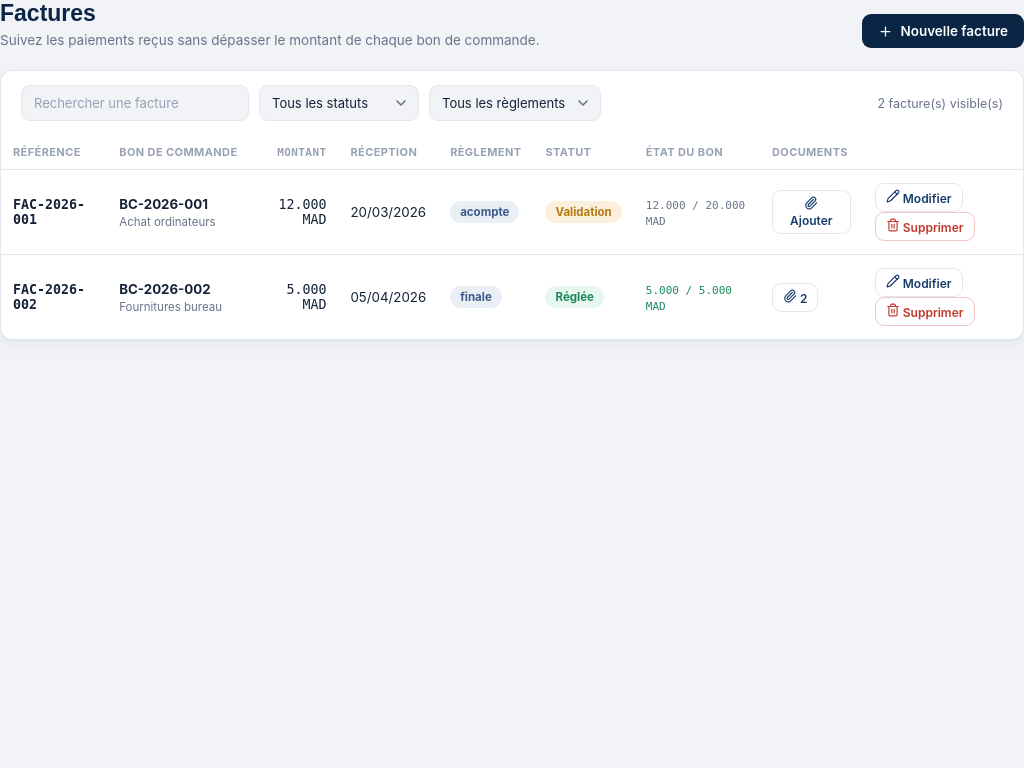
Test: Factures › ouvre la modale avec une référence générée automatiquement
Expected: the text "FAC-2026-001" is shown, x1=13 y1=197 x2=85 y2=227
Click the button "Nouvelle facture".
click(943, 31)  # box x1=862 y1=14 x2=1023 y2=48
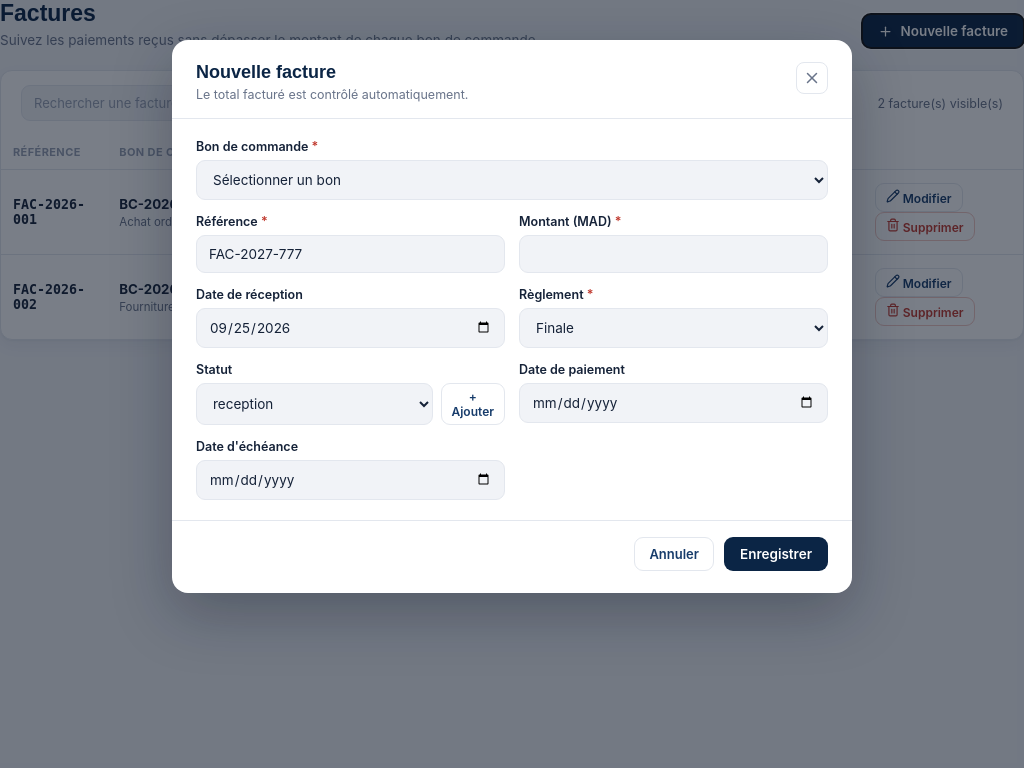
Now the field showing "FAC-2027-777" is shown, box x1=196 y1=235 x2=505 y2=273
